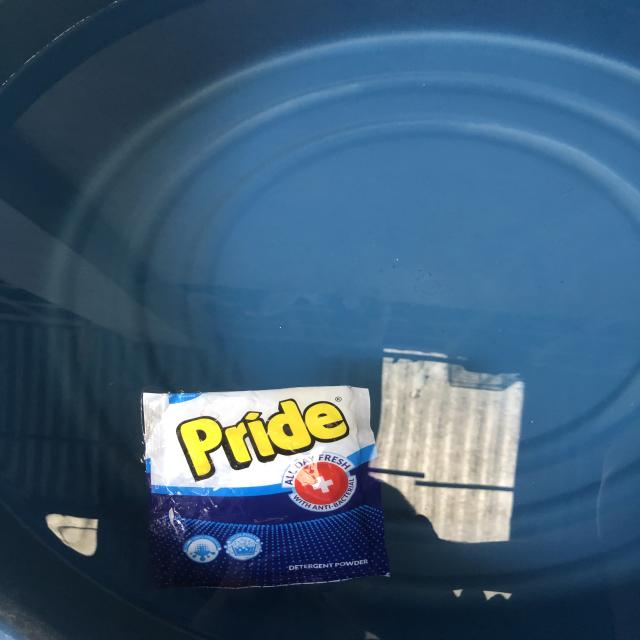Plastic Wrapper: (110, 367, 413, 606)
